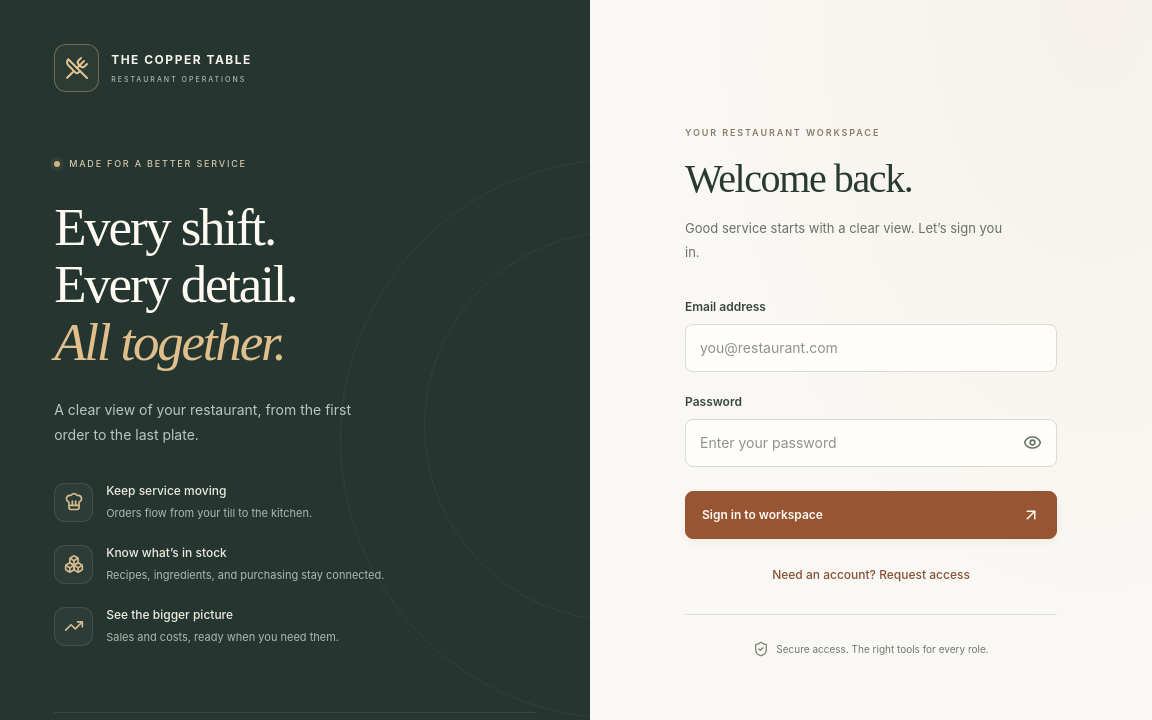
authenticated restaurant workspace › normalizes the email before sign-in and explains the registration approval process
The image size is (1152, 720).
Expected: the heading "Welcome back." is shown, [685,156,912,201]
Expected: the button "Need an account? Request access" is shown, [767,560,975,590]
Type " OWNER@EXAMPLE.TEST " into the field labelled "Email address" at (871, 348), box [685,324,1057,372]
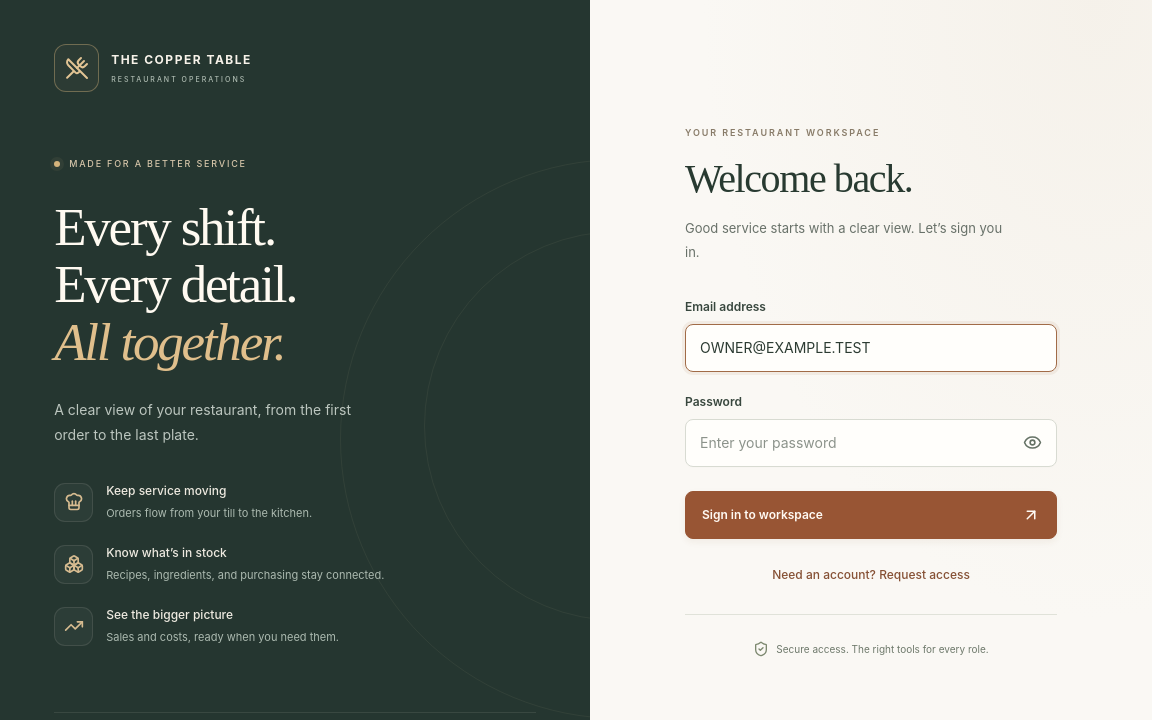
Type "a-long-password" into the password field labelled "Password" at (871, 443), box [685,419,1057,467]
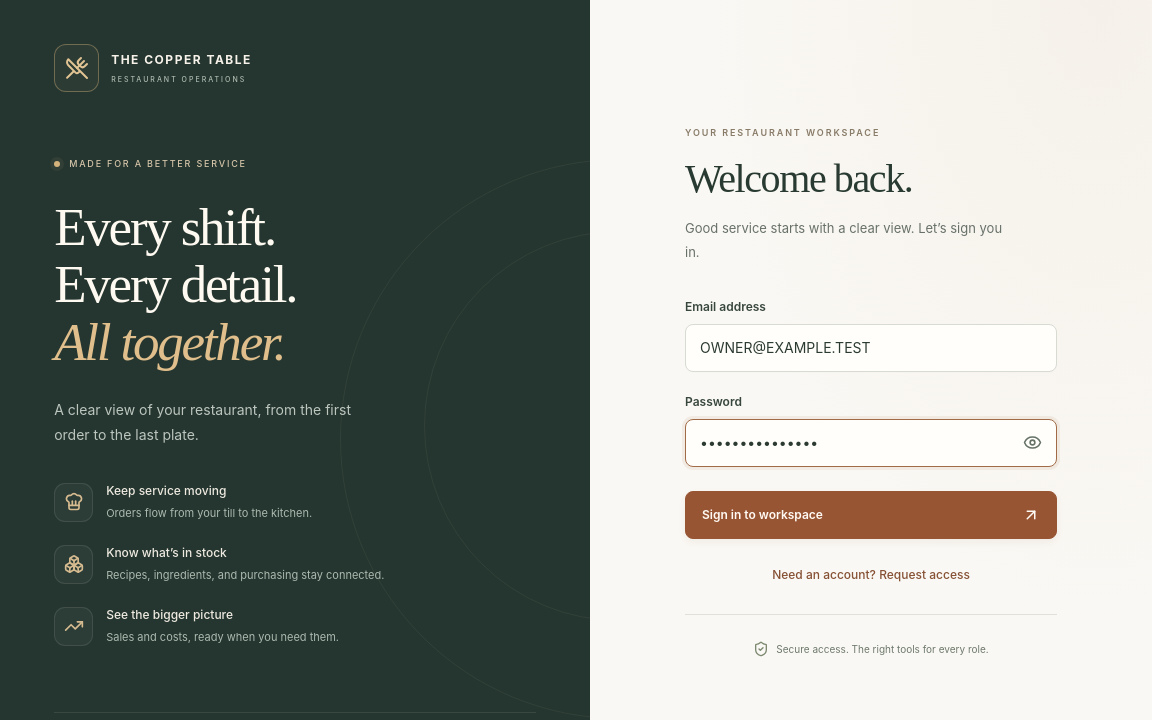
Click the button "Sign in to workspace" at (762, 514), box [685,491,1057,539]
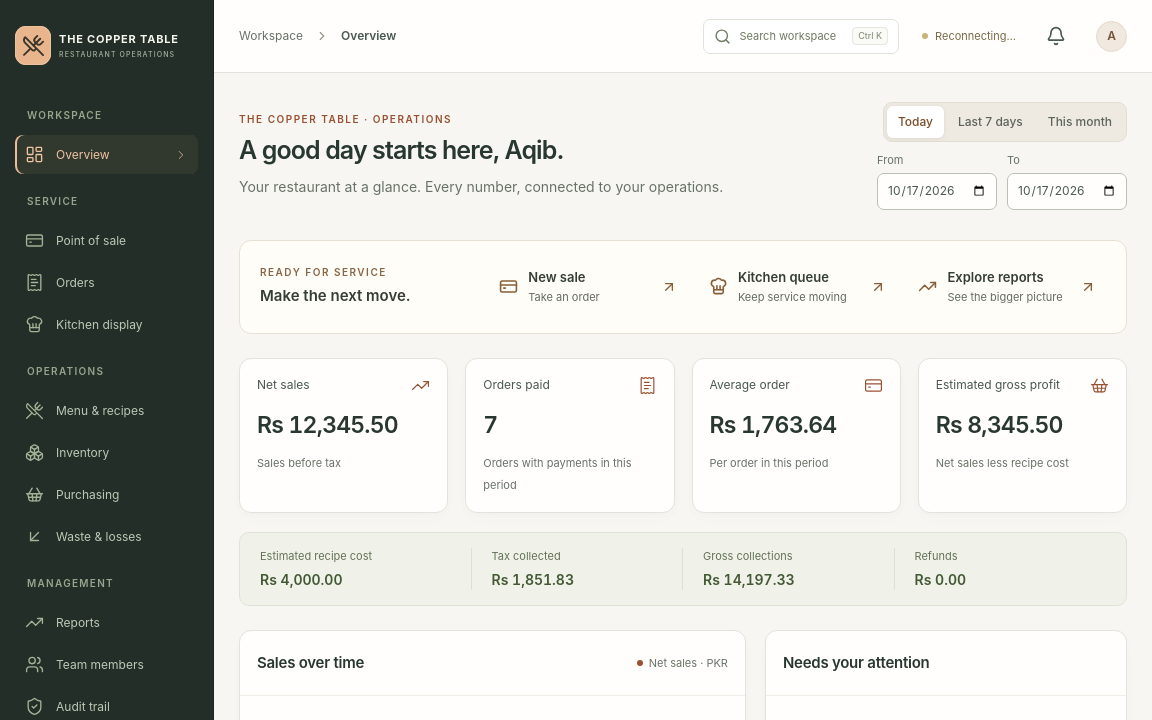
Expected: the heading "A good day starts here, Aqib." is shown, [239,135,564,165]
